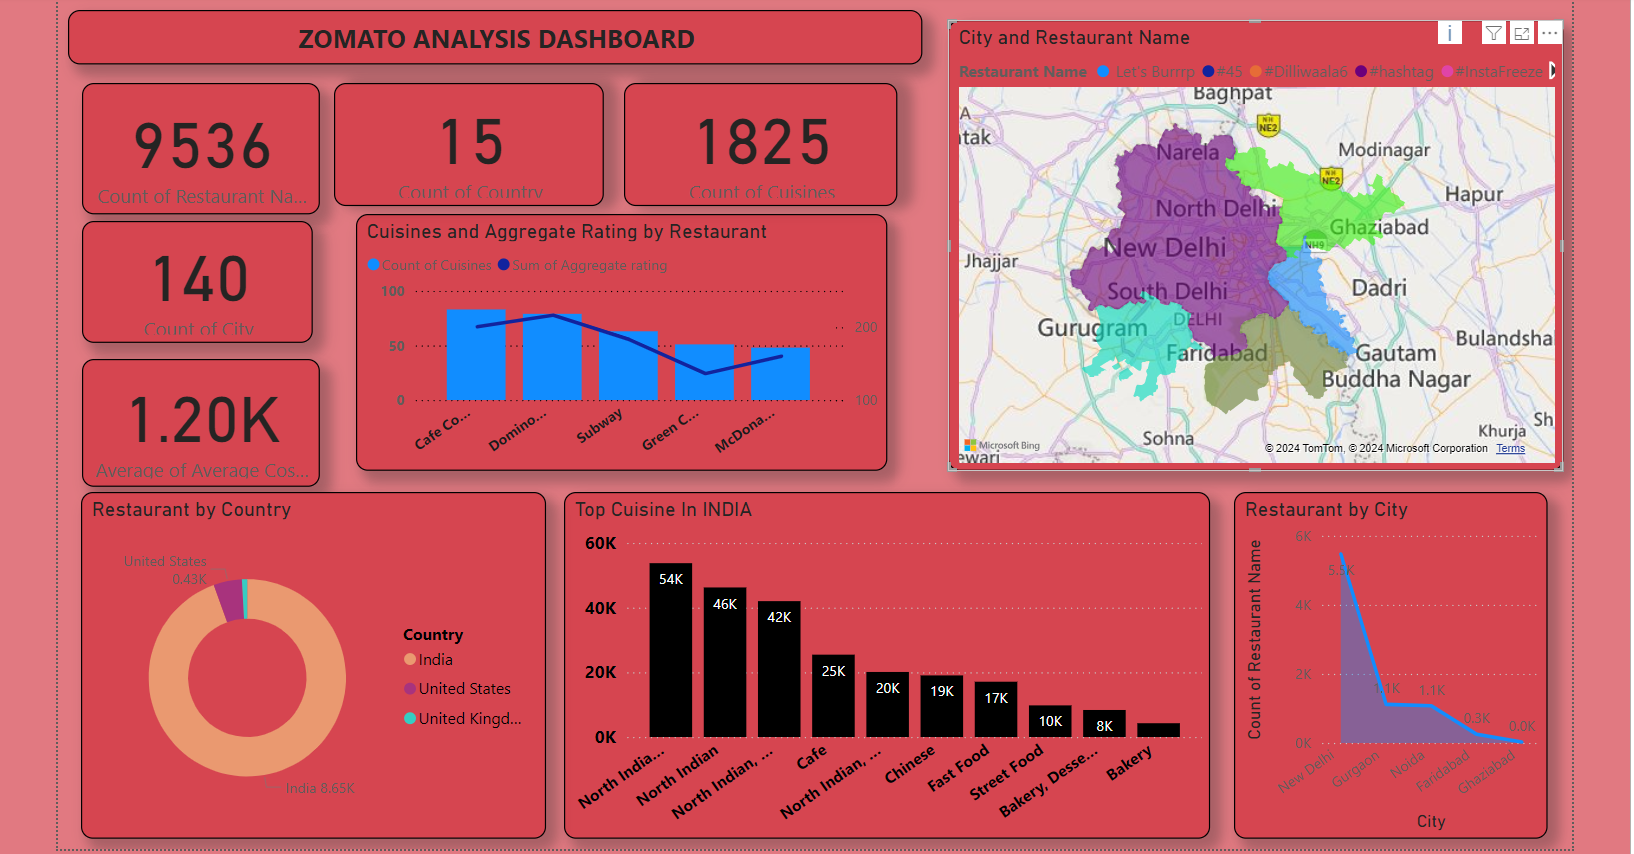

The dashboard page shown, as its layout file describes it:
{"tool":"powerbi","page":{"name":"Page 3","canvas":[1280,720],"ordinal":1},"visuals":[{"type":"textbox","box":[8.6,11.2,722.3,45.7],"z":0},{"type":"filledMap","fields":{"Category":["Clean Zamoto Data.City"],"Series":["Clean Zamoto Data.Restaurant Name"]},"box":[752.5,19.8,519.8,381],"z":1000},{"type":"lineStackedColumnComboChart","title":"Cuisines and Aggregate Rating by Restaurant","fields":{"Category":["Clean Zamoto Data.Restaurant Name"],"Y":["CountNonNull(Clean Zamoto Data.Cuisines)"],"Y2":["Sum(Clean Zamoto Data.Aggregate rating)"]},"box":[251.7,183.6,449.1,217.2],"z":2000},{"type":"card","title":"Total Restaurant","fields":{"Values":["CountNonNull(Clean Zamoto Data.Restaurant Name)"]},"box":[20.7,72.4,200.8,111.2],"z":3000},{"type":"card","title":"Total Country","fields":{"Values":["Count(Clean Zamoto Data.Country)"]},"box":[233.6,72.4,228.4,104.3],"z":4000},{"type":"card","title":"Total Cuisines","fields":{"Values":["Count(Clean Zamoto Data.Cuisines)"]},"box":[478.4,72.4,231,104.3],"z":5000},{"type":"columnChart","title":"Top Cuisine In INDIA","fields":{"Category":["Clean Zamoto Data.Cuisines"],"Y":["Sum(Clean Zamoto Data.Votes)"]},"box":[427.5,418,546.5,293.1],"z":6000},{"type":"card","title":"Total City","fields":{"Values":["Count(Clean Zamoto Data.City)"]},"box":[20.7,189.6,194.8,102.6],"z":7000},{"type":"card","title":"Average Cost","fields":{"Values":["Avg(Clean Zamoto Data.Average Cost for two)"]},"box":[20.7,306,200.8,107.7],"z":8000},{"type":"donutChart","title":"Restaurant by Country","fields":{"Category":["Clean Zamoto Data.Country"],"Y":["CountNonNull(Clean Zamoto Data.Restaurant Name)"]},"box":[19.8,418,393.1,293.1],"z":9000},{"type":"areaChart","title":"Restaurant by City","fields":{"Category":["Clean Zamoto Data.City"],"Y":["CountNonNull(Clean Zamoto Data.Restaurant Name)"]},"box":[993.8,418,265.5,293.1],"z":10000}]}

Visuals, with their boxes in screenshot pixels (x1, y1, x2, y2):
textbox: [70,9,916,62]
filledMap - Clean Zamoto Data.City x Clean Zamoto Data.Restaurant Name: [941,19,1550,465]
"Cuisines and Aggregate Rating by Restaurant" lineStackedColumnComboChart: [354,211,881,465]
"Total Restaurant" card: [84,81,319,211]
"Total Country" card: [333,81,601,203]
"Total Cuisines" card: [620,81,891,203]
"Top Cuisine In INDIA" columnChart: [560,485,1201,829]
"Total City" card: [84,218,312,338]
"Average Cost" card: [84,354,319,480]
"Restaurant by Country" donutChart: [83,485,543,829]
"Restaurant by City" areaChart: [1224,485,1535,829]
